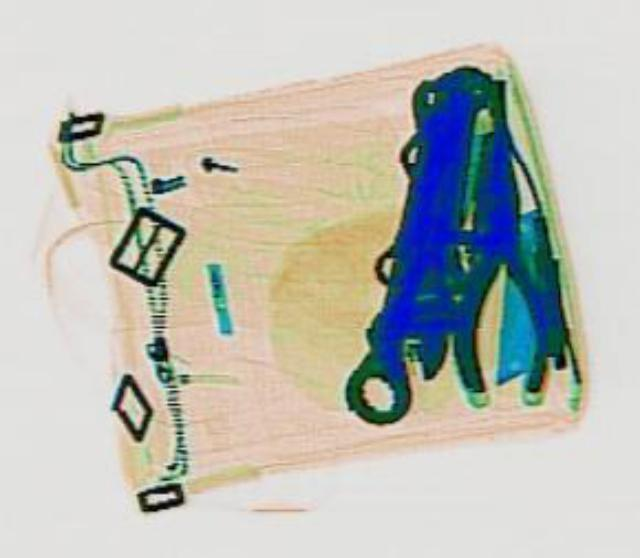Pliers: (442, 129, 548, 404)
Wrench: (334, 75, 476, 425)
